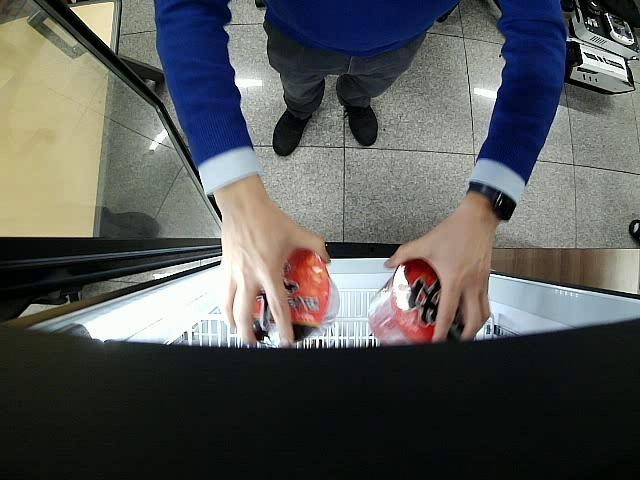01_ShinRamen_L: (368, 258, 473, 342), (253, 248, 339, 342)
